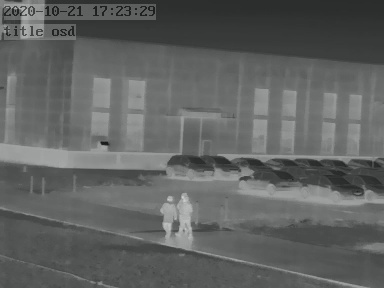person: (161, 193, 178, 240), (180, 191, 193, 239)
vehicle: (303, 173, 357, 200), (237, 169, 303, 191), (165, 153, 212, 179), (349, 173, 383, 200), (205, 153, 242, 177), (232, 155, 270, 172), (261, 155, 295, 170), (348, 156, 379, 170), (318, 156, 347, 169), (296, 155, 324, 168)
